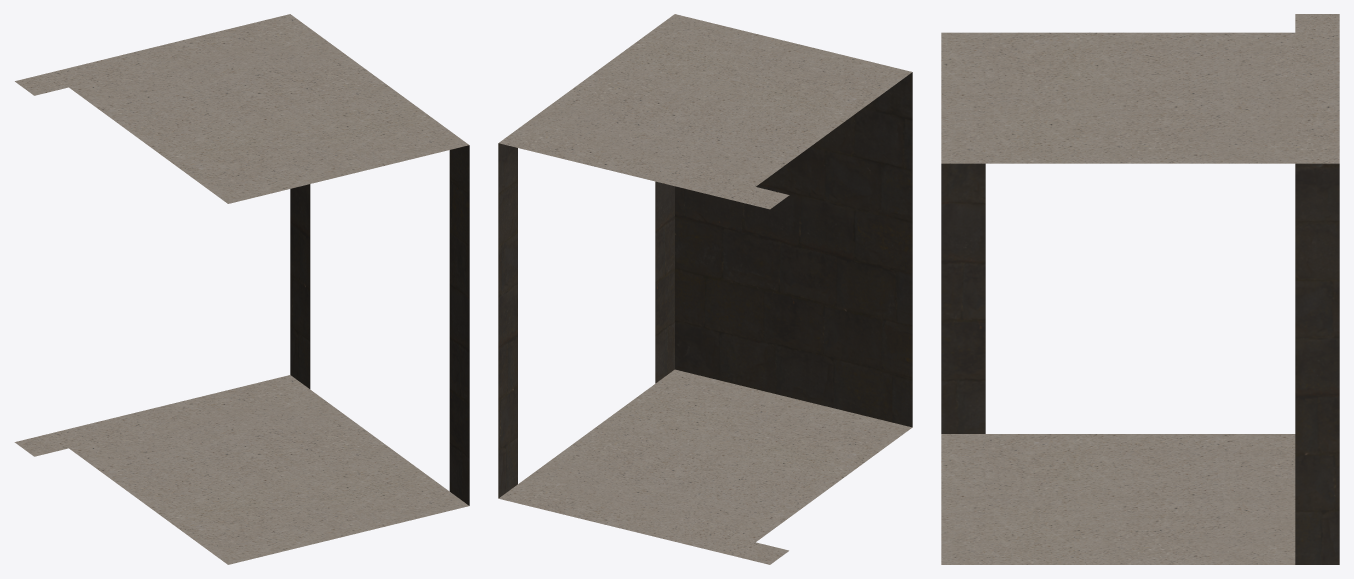
The model's file is dungeonBoss.fbx.
3 renders of one model, left to right at view 1: azimuth 30°, elevation 25°; view 2: azimuth 150°, elevation 25°; view 3: azimuth 270°, elevation 25°, orthographic. The views are drawn at different scales.
Parts seen in each view (by area): view 1: 平面, 平面.001, 平面.003, 平面.004, 平面.006; view 2: 平面.001, 平面, 平面.003, 平面.004, 平面.006; view 3: 平面, 平面.001, 平面.004, 平面.003, 平面.006.
Part boxes in pixels (<box>): 平面: <box>69,28,449,550</box>; 平面.001: <box>208,130,469,564</box>; 平面.003: <box>49,14,309,448</box>; 平面.004: <box>290,184,310,388</box>; 平面.006: <box>14,73,68,456</box>; 平面.001: <box>655,14,912,441</box>; 平面: <box>518,28,892,542</box>; 平面.003: <box>498,129,755,556</box>; 平面.004: <box>498,143,517,498</box>; 平面.006: <box>736,187,789,564</box>; 平面: <box>985,32,1295,564</box>; 平面.001: <box>941,32,985,564</box>; 平面.004: <box>1295,163,1339,564</box>; 平面.003: <box>1295,32,1339,163</box>; 平面.006: <box>1295,14,1339,32</box>.
Bounding box in the file's own units: 1600 × 2000 × 1800.
